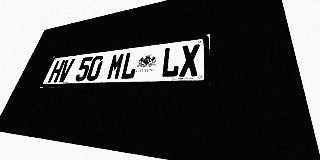0: (85, 55, 105, 81)
5: (74, 56, 93, 81)
H: (47, 60, 66, 83)
L: (160, 46, 181, 78), (120, 51, 140, 80)
M: (106, 52, 126, 80)
V: (57, 59, 75, 82)
X: (179, 44, 200, 77)
